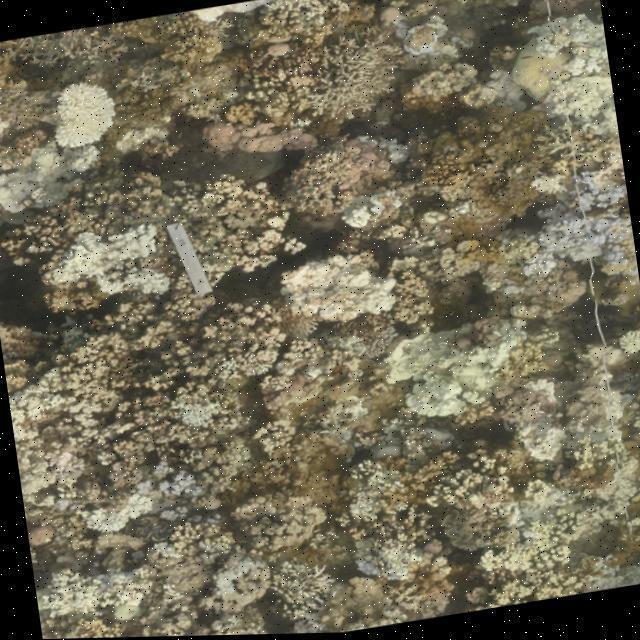Bleached Coral: (524, 160, 638, 292), (388, 321, 514, 434), (522, 10, 619, 152), (280, 244, 400, 336), (56, 218, 170, 312), (4, 361, 74, 510), (36, 556, 158, 628), (0, 142, 97, 222), (56, 484, 175, 543), (45, 68, 122, 159), (338, 452, 397, 540), (350, 540, 430, 595), (332, 184, 409, 237), (208, 544, 264, 612), (172, 386, 242, 439)
